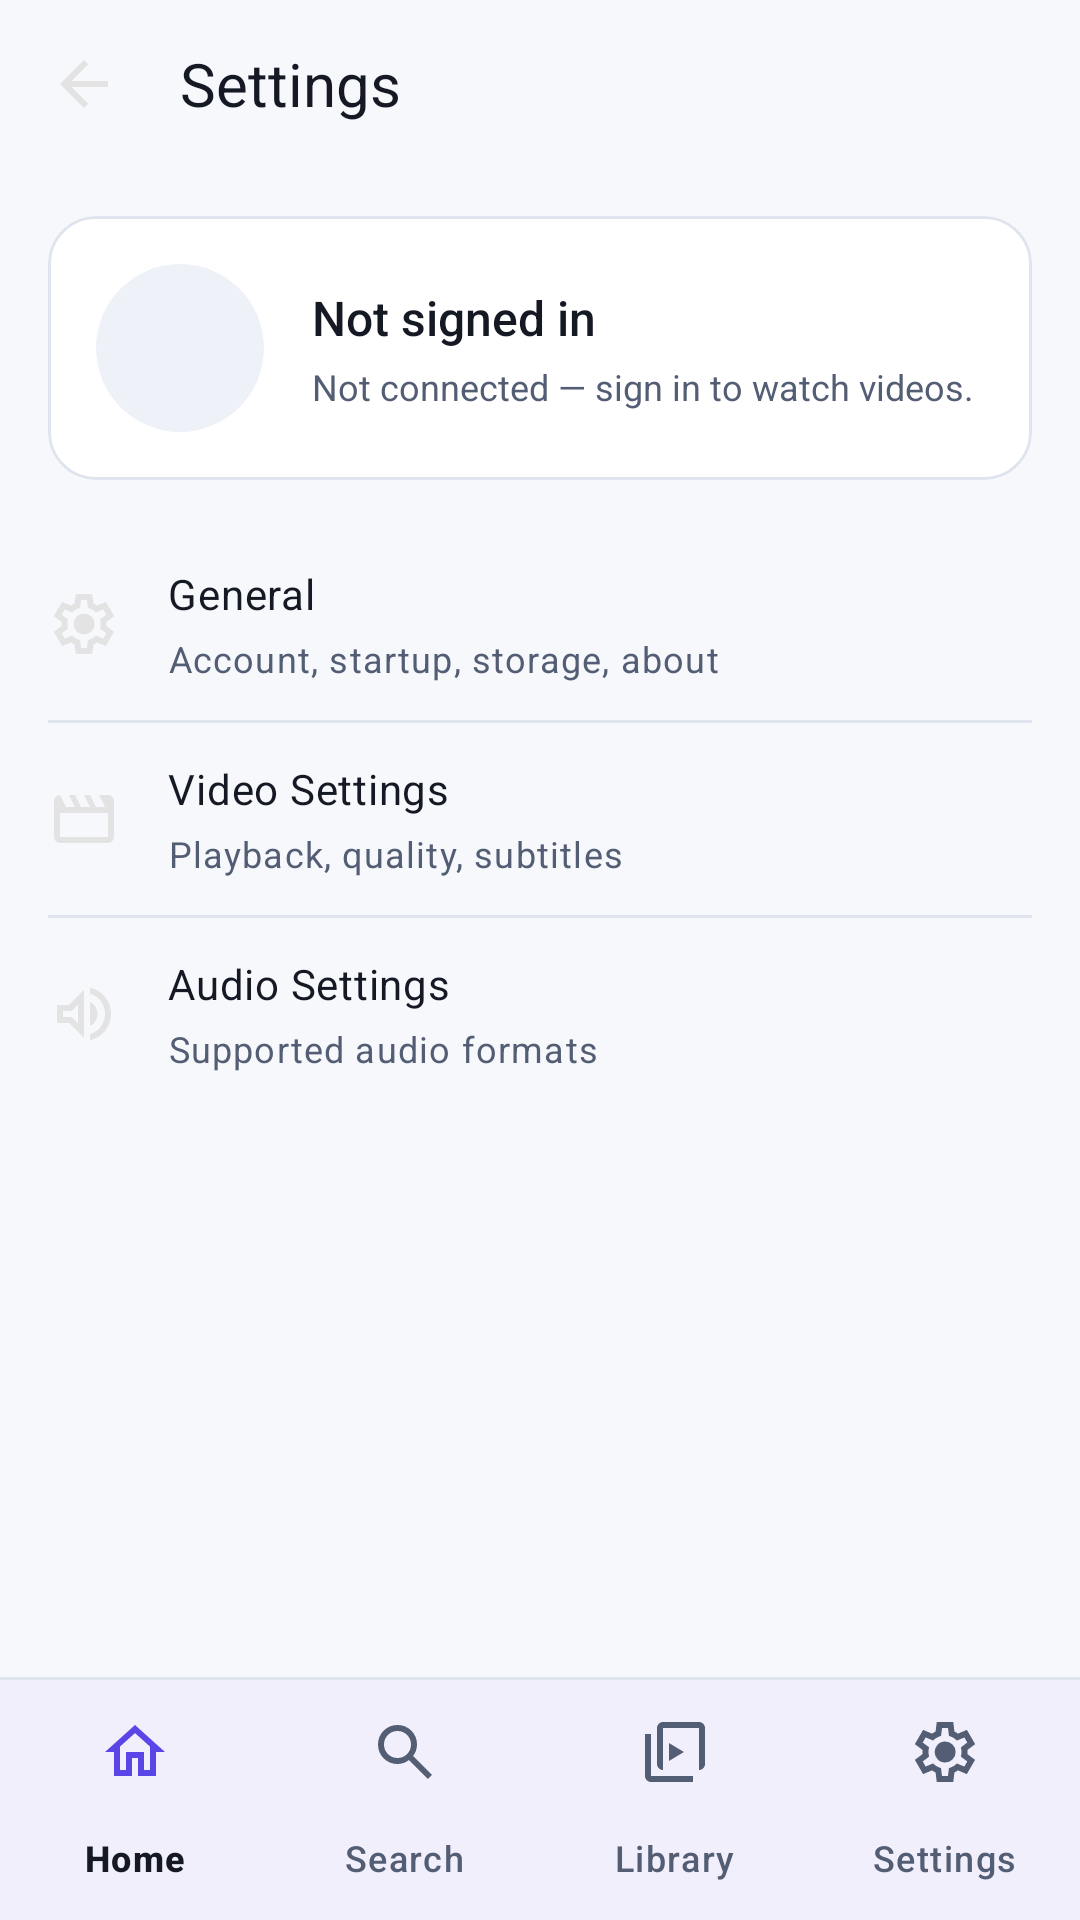

Icon bounding boxes for this 1080x1920 phone screenshot, format {"left": x1, "top": y1, "right": x2, "bottom": y2}:
movie: {"left": 54, "top": 795, "right": 114, "bottom": 843}
volume: {"left": 57, "top": 988, "right": 111, "bottom": 1040}
